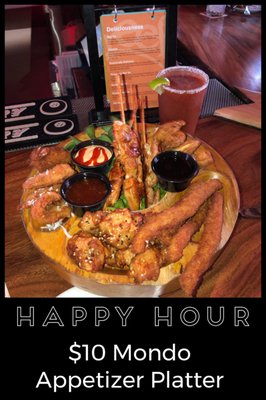pizza: (155, 66, 210, 135)
